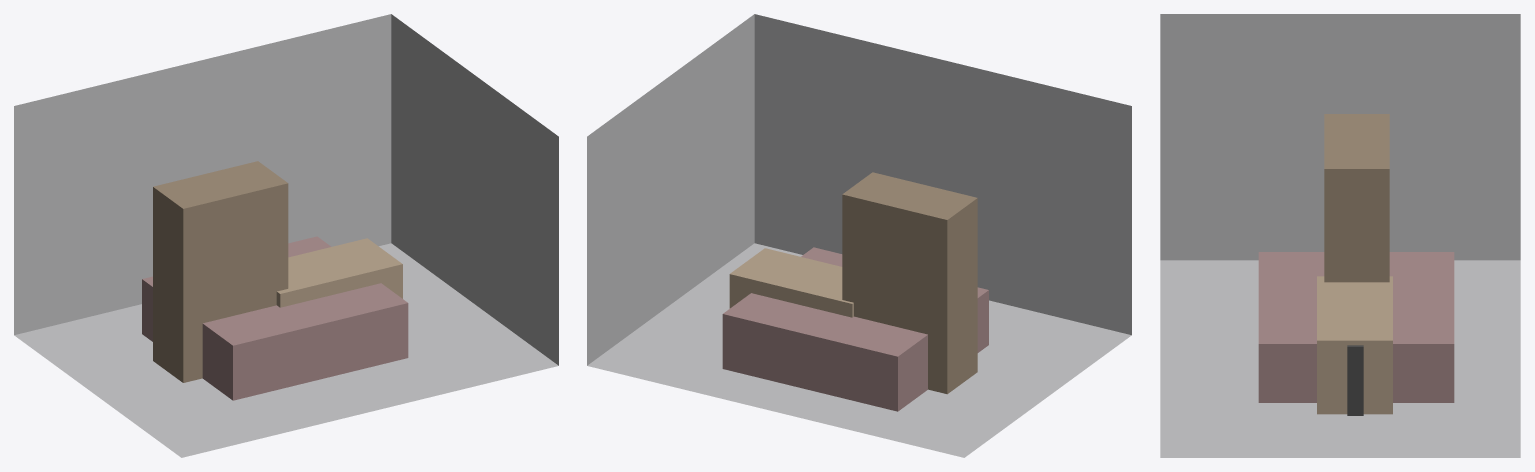
The model's file is optimised_layout.glb.
3 renders of one model, left to right at view 1: azimuth 30°, elevation 25°; view 2: azimuth 150°, elevation 25°; view 3: azimuth 270°, elevation 25°, orthographic. The views are drawn at different scales.
Visible parts, largest first — view 1: room, wardrobe, bed, desk; view 2: room, wardrobe, bed, desk; view 3: room, bed, wardrobe, desk, tv.
Boxes of the visible parts, box(x1,y1,x2,y2) form: room: box(14, 14, 558, 457); wardrobe: box(153, 161, 288, 382); bed: box(142, 236, 408, 400); desk: box(276, 238, 402, 307); room: box(587, 14, 1131, 457); wardrobe: box(842, 172, 977, 394); bed: box(722, 247, 988, 411); desk: box(729, 248, 853, 317); room: box(1160, 14, 1520, 457); bed: box(1258, 252, 1454, 402); wardrobe: box(1324, 114, 1389, 282); desk: box(1317, 276, 1392, 414); tv: box(1347, 345, 1363, 415).
Size of the model in its own units: 4.31 by 2.5 by 3.31.
